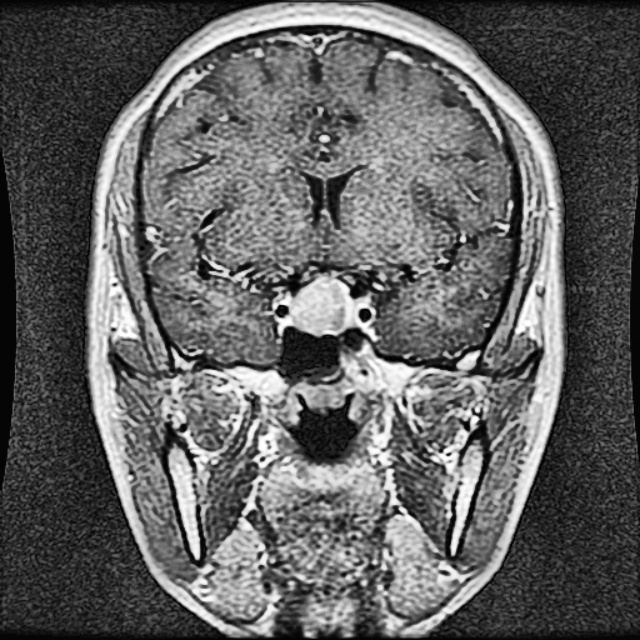Pituitary: (289, 275, 350, 333)
